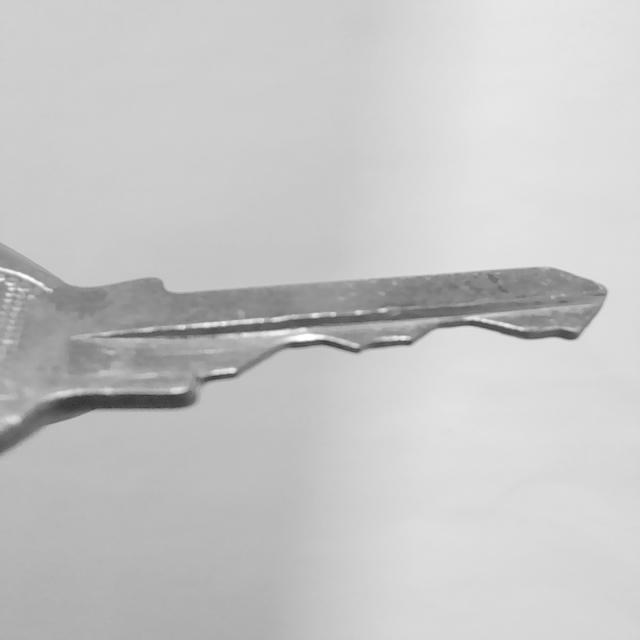KEY: (0, 246, 607, 451)
